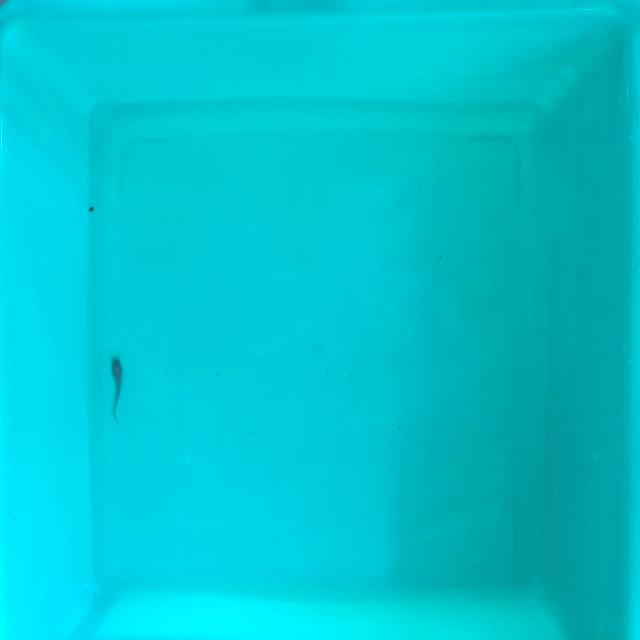lele: (111, 358, 122, 424)
